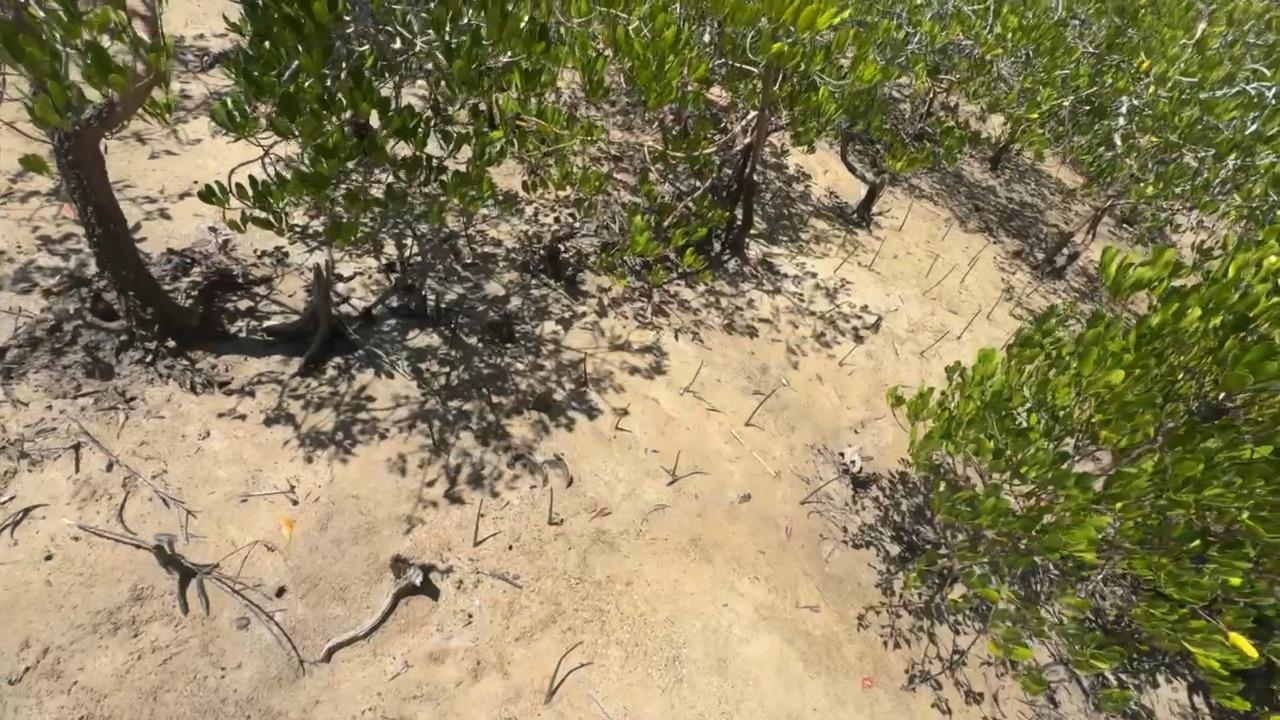Tree: (543, 639, 588, 703), (744, 386, 779, 426), (800, 473, 845, 503), (922, 263, 962, 296), (1000, 313, 1030, 351), (839, 335, 869, 367), (832, 242, 861, 274), (919, 330, 951, 355), (957, 307, 981, 339), (867, 235, 887, 270), (684, 359, 704, 391), (473, 497, 484, 547), (967, 242, 992, 264), (805, 194, 823, 224), (960, 256, 979, 284), (761, 185, 782, 208), (986, 291, 1003, 319), (59, 439, 85, 456), (615, 402, 631, 429), (899, 199, 912, 231), (424, 415, 436, 446), (926, 253, 939, 278), (671, 450, 683, 475), (547, 487, 555, 523), (941, 220, 954, 241), (584, 352, 588, 386), (1026, 287, 1036, 298)
